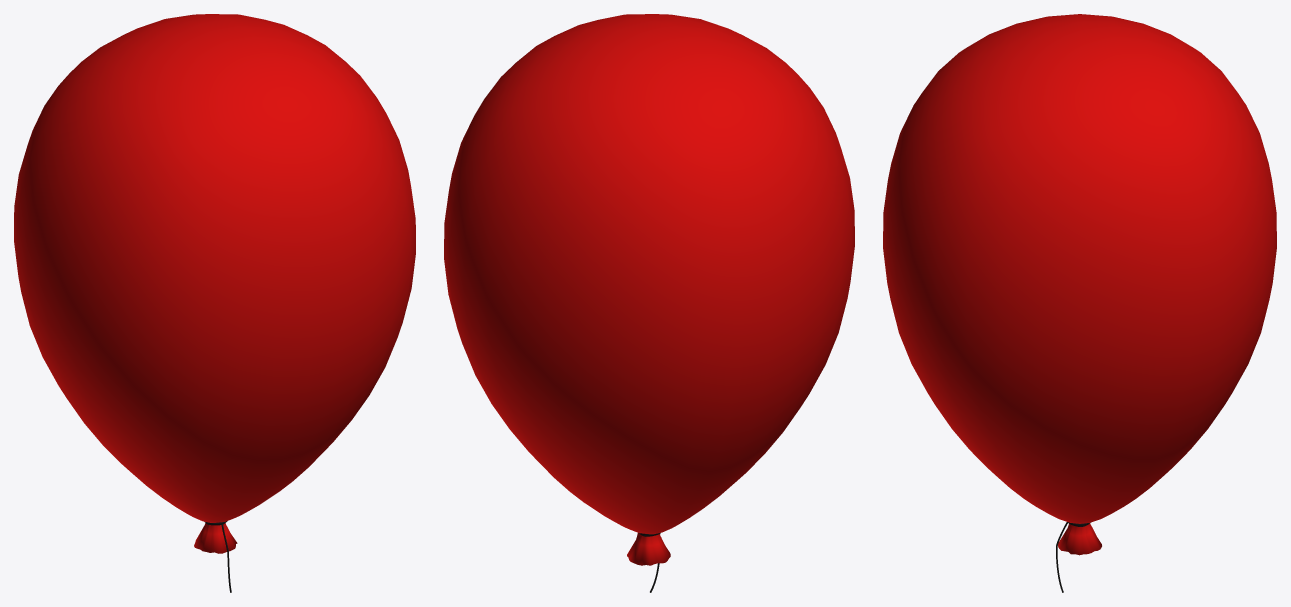
Rendered from DeBalloon.obj.
3 views of the same model, side by side, from view 1: azimuth 30°, elevation 25°; view 2: azimuth 150°, elevation 25°; view 3: azimuth 270°, elevation 25° (orthographic). The views are drawn at different scales.
Visible parts, largest first — view 1: Cube.003, Cylinder.006; view 2: Cube.003, Cylinder.006; view 3: Cube.003, Cylinder.006.
Boxes of the visible parts, bbox=[...] form: Cube.003: bbox=[14, 14, 415, 522]; Cylinder.006: bbox=[194, 523, 237, 553]; Cube.003: bbox=[444, 14, 854, 534]; Cylinder.006: bbox=[627, 533, 670, 565]; Cube.003: bbox=[883, 14, 1276, 523]; Cylinder.006: bbox=[1058, 523, 1101, 555].
Size of the model in its own units: 4.61 by 7.16 by 4.61.
